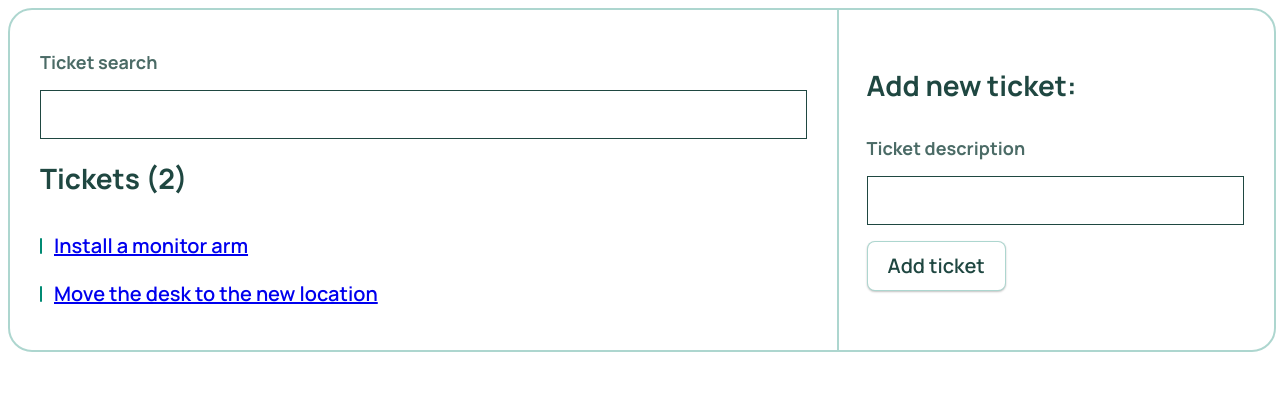
Test: create new ticket
Type "Testing this now" into the field labelled "Ticket description" at (1055, 201), box [866,176,1244,226]
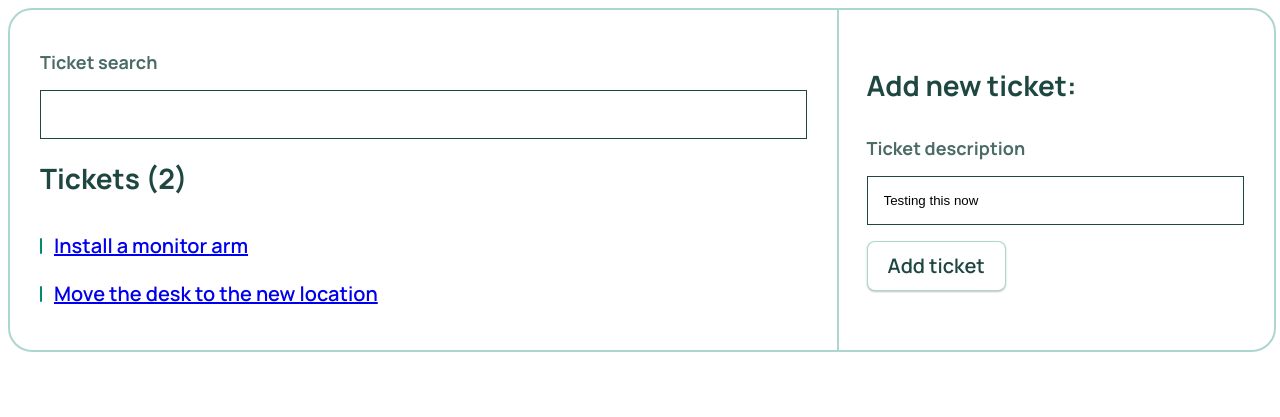
Click the button "Add ticket" at (936, 266), box [866,242,1006,292]
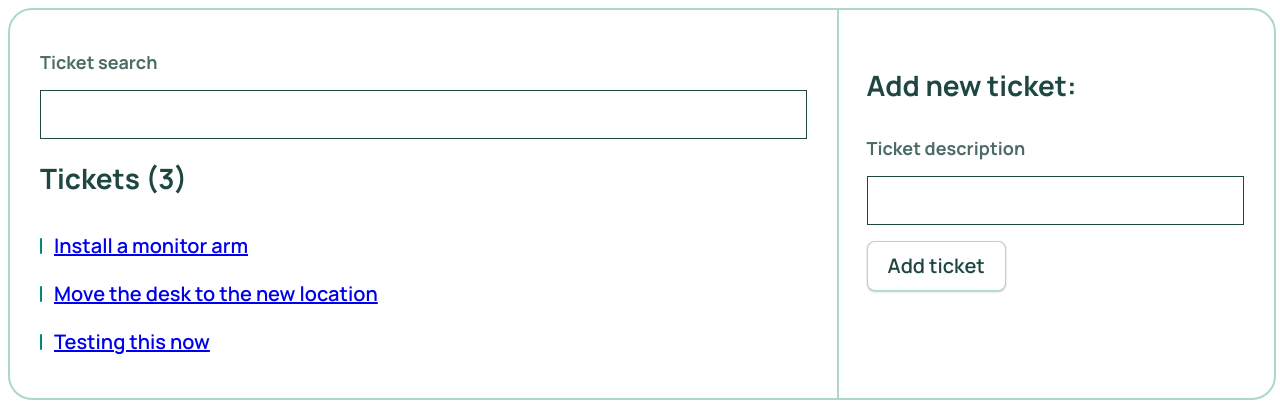
Expected: the link "Testing this now" is shown, [54,328,210,355]
